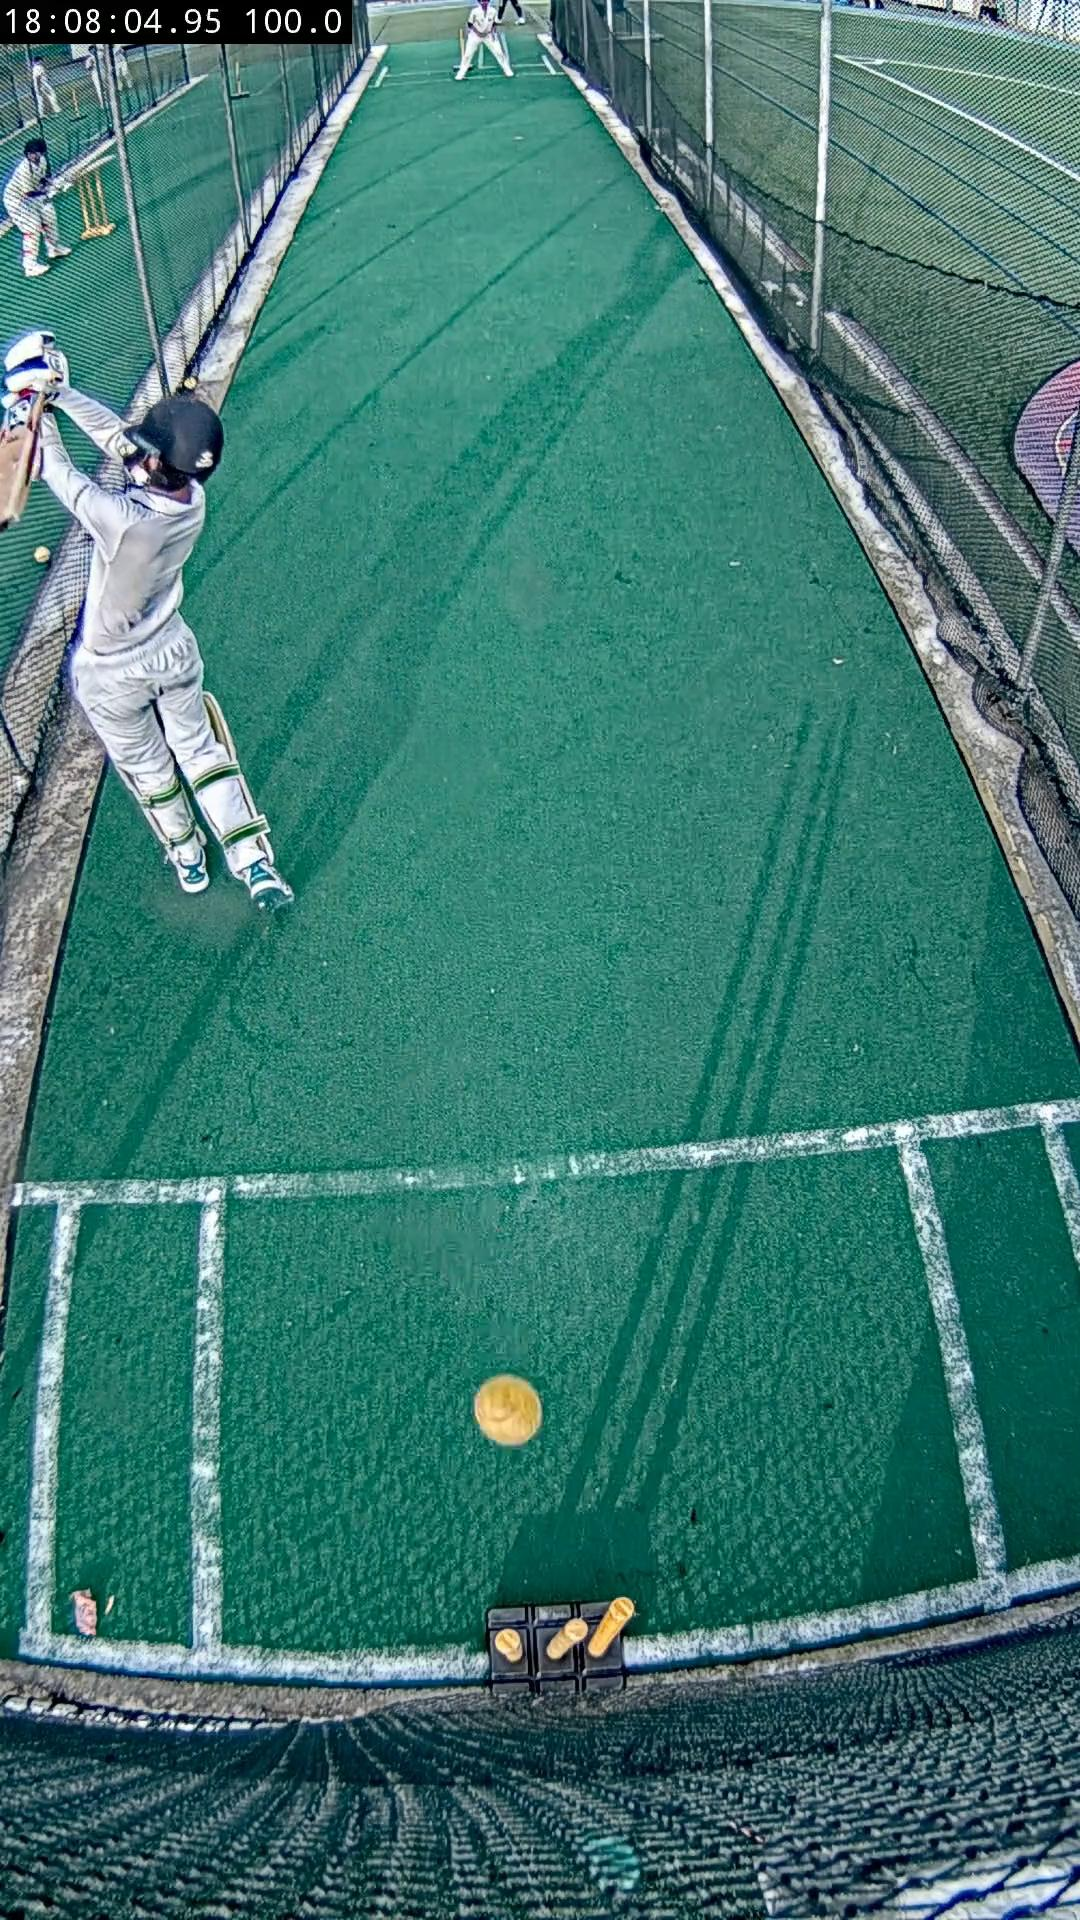ball: (472, 1373, 543, 1448)
bat: (0, 394, 45, 527)
gloves: (4, 330, 67, 397)
helmet: (124, 394, 225, 492)
pads: (203, 690, 236, 761)
stumps: (488, 1597, 634, 1695)
